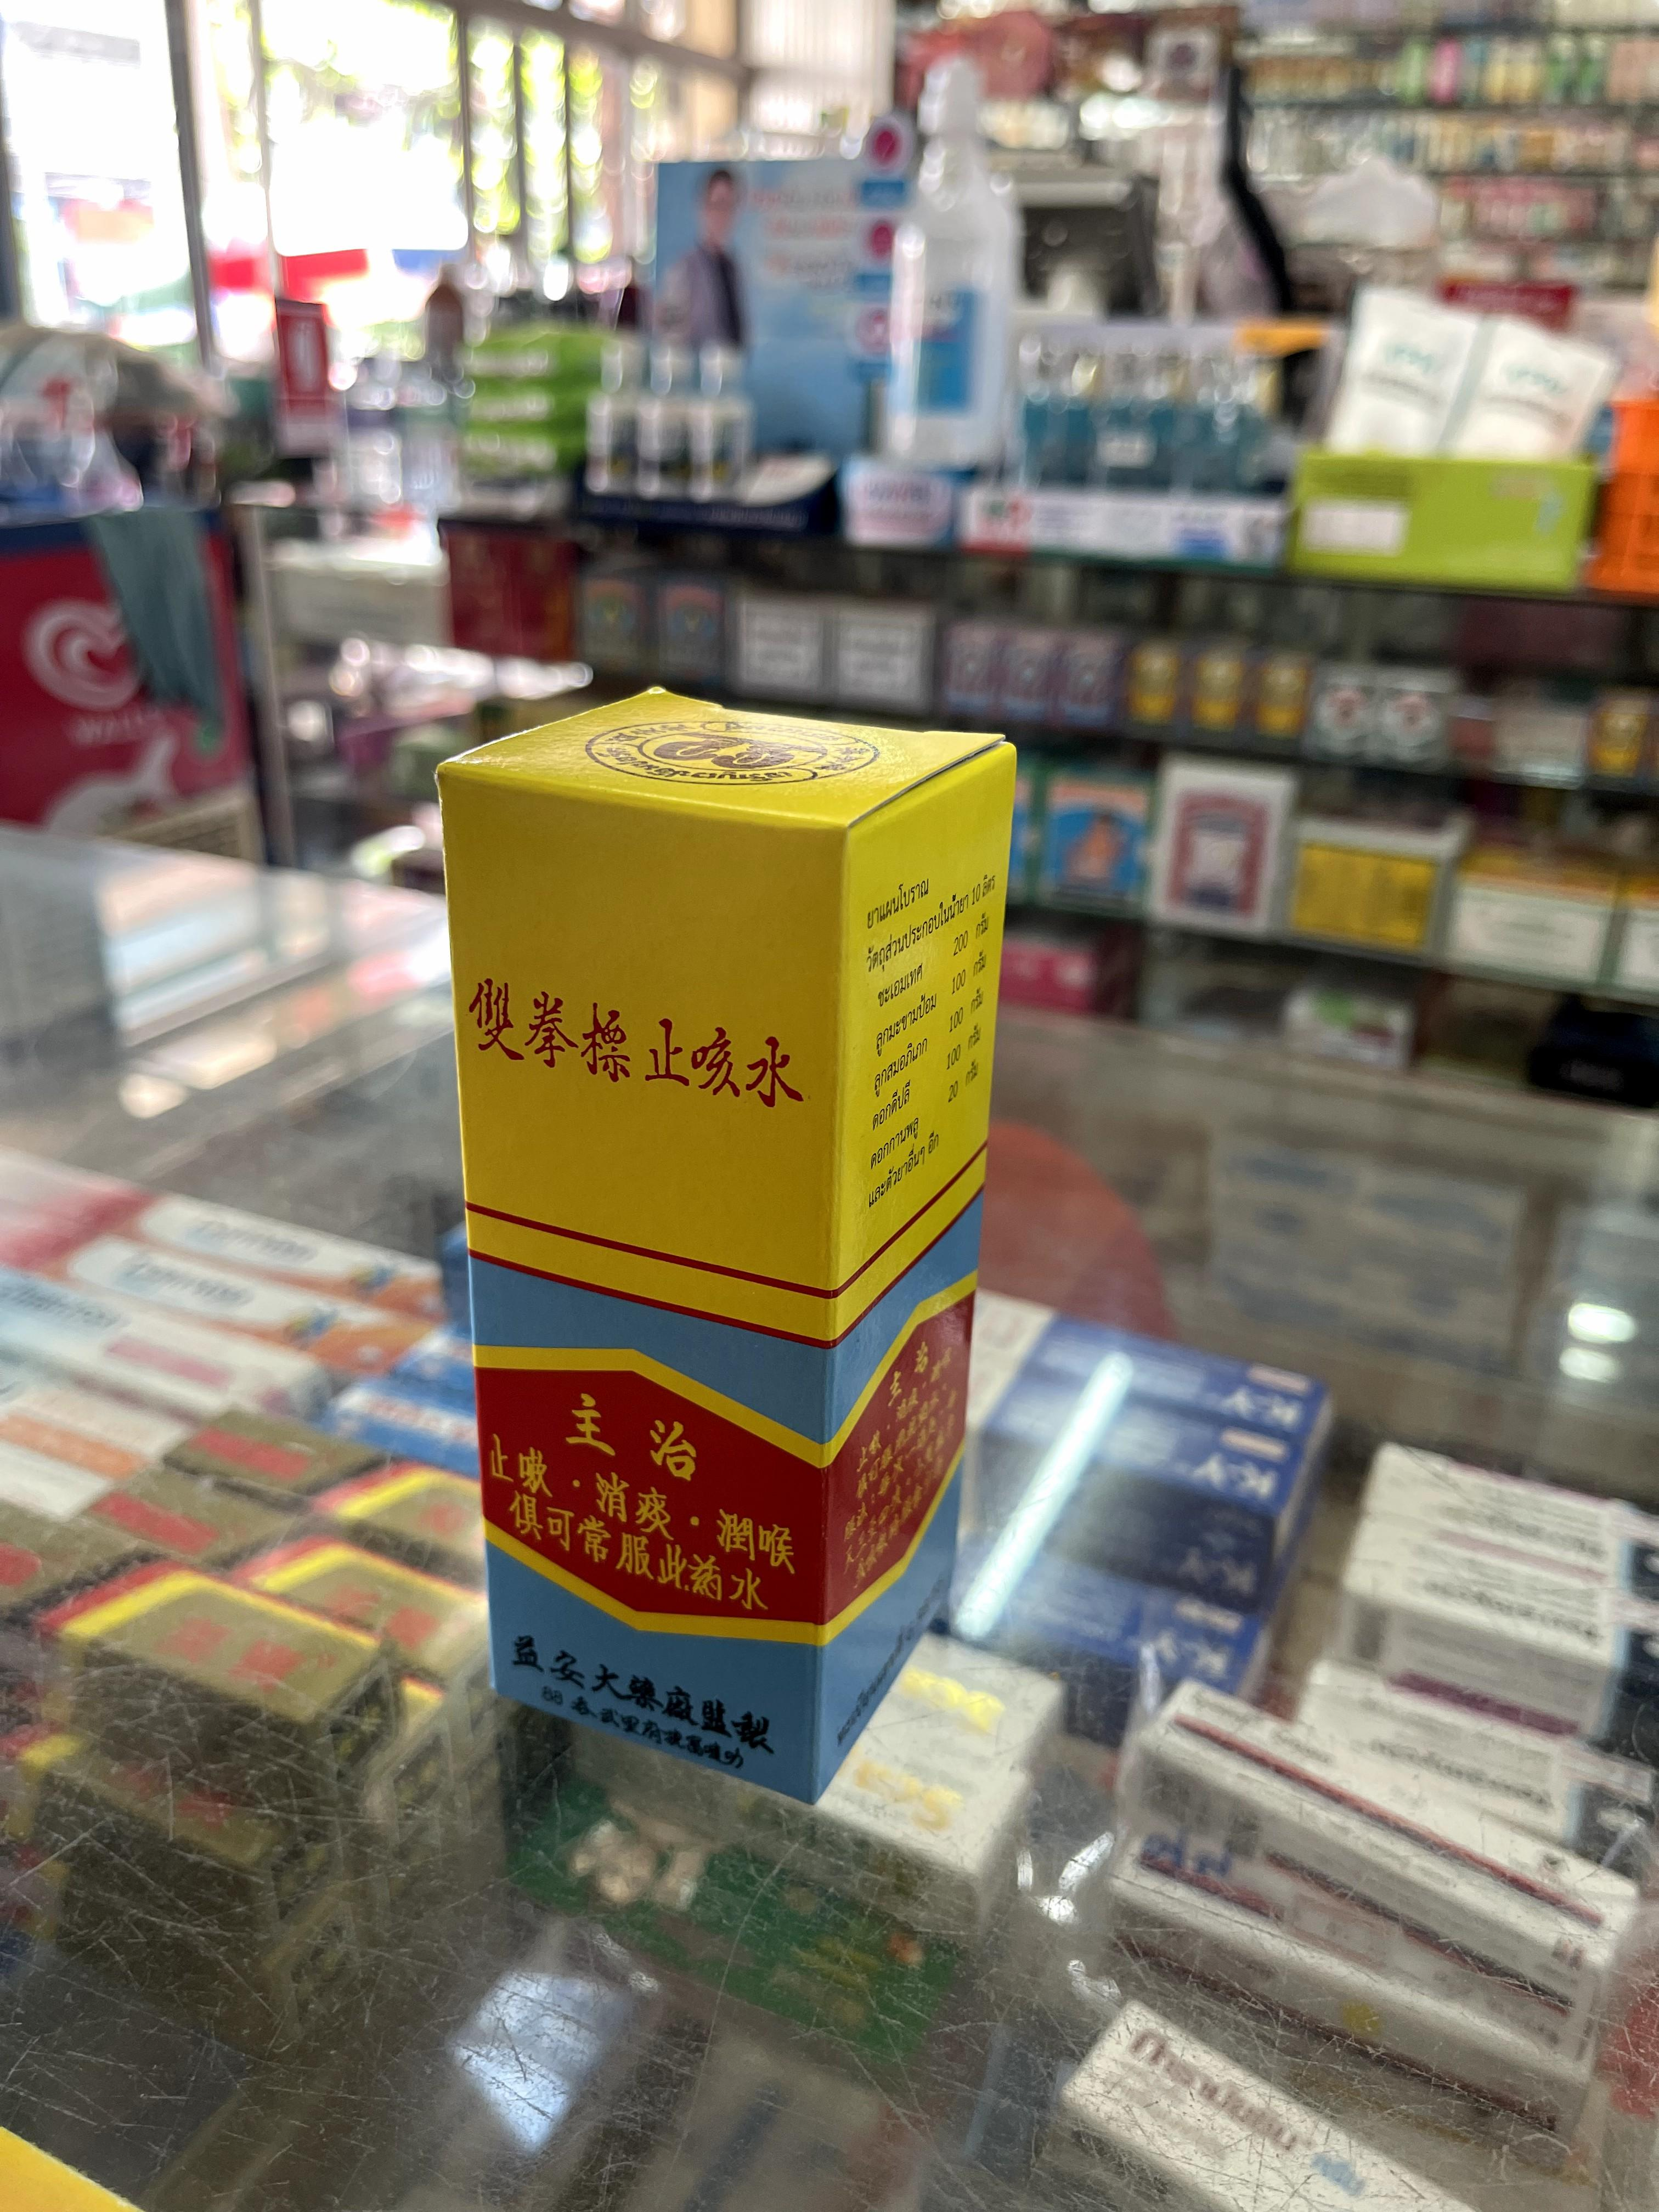Ma-Kham-Pom: (448, 702, 1018, 1797)
